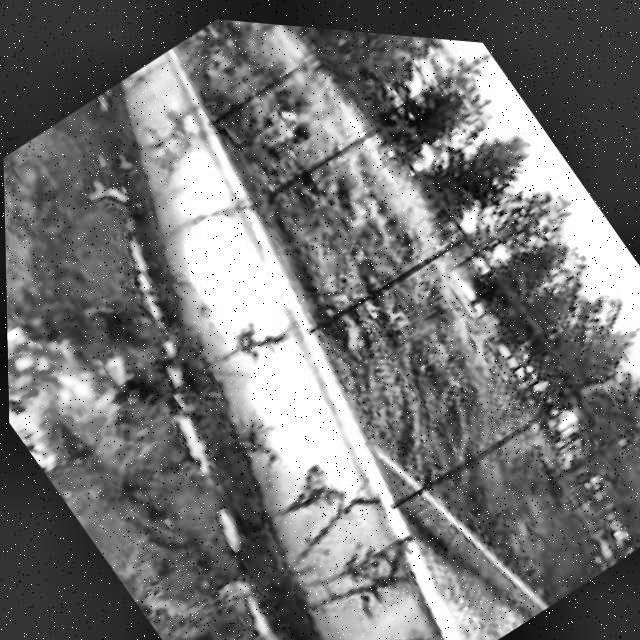Fire: (5, 280, 154, 508)
